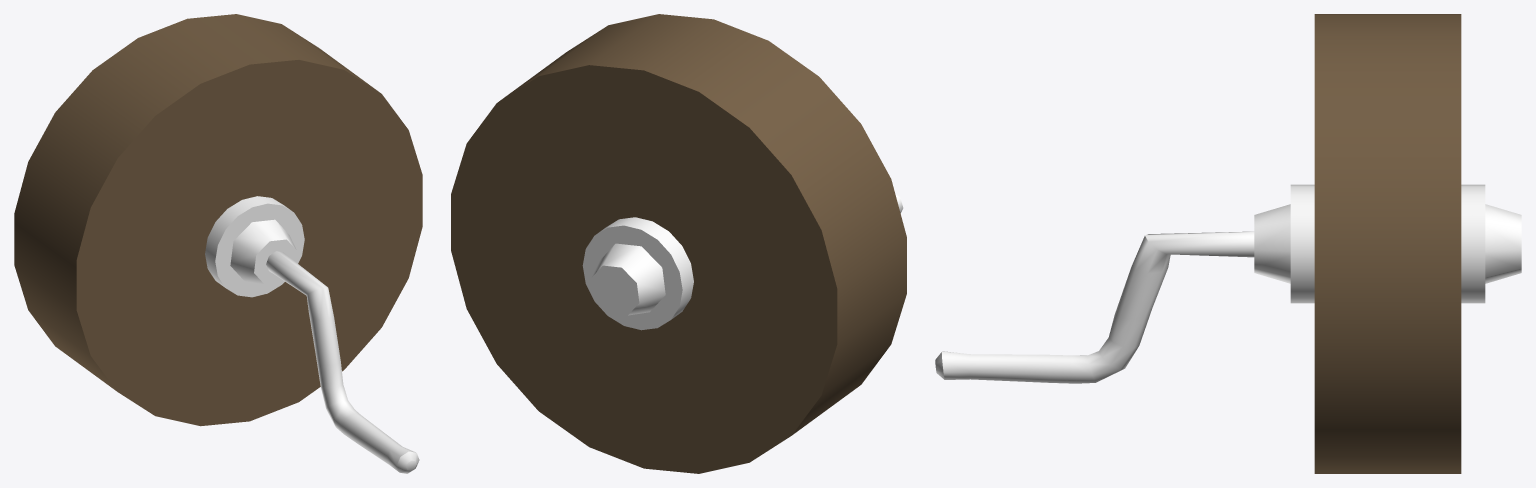
File: whetstone_wheel.glb
3 views of the same model, side by side, from view 1: azimuth 30°, elevation 25°; view 2: azimuth 150°, elevation 25°; view 3: azimuth 270°, elevation 25° (orthographic). The views are drawn at different scales.
Parts seen in each view (by area): view 1: Whetstone.001; view 2: Whetstone.001; view 3: Whetstone.001.
Part boxes in pixels (box(x1,y1,x2,y2)): Whetstone.001: box(14, 14, 422, 473); Whetstone.001: box(451, 14, 906, 473); Whetstone.001: box(935, 14, 1521, 473).
Bounding box in the file's own units: 0.6043 × 0.5955 × 0.7568.
